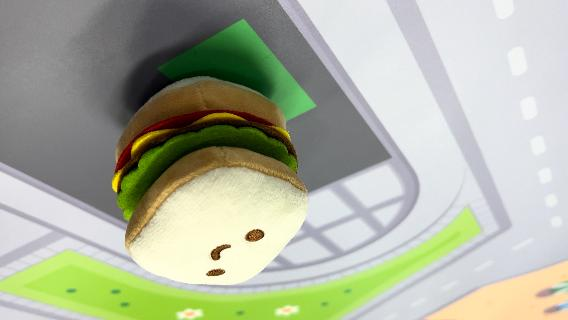sandwich: (111, 74, 312, 286)
